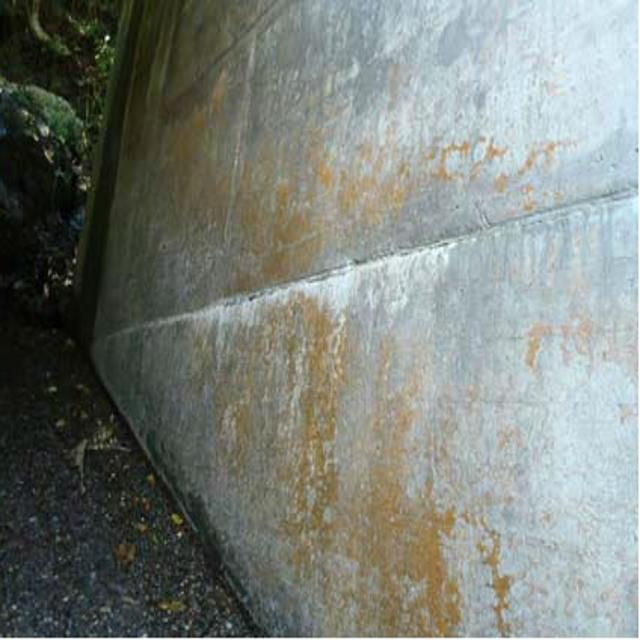freelime: (160, 231, 457, 336)
